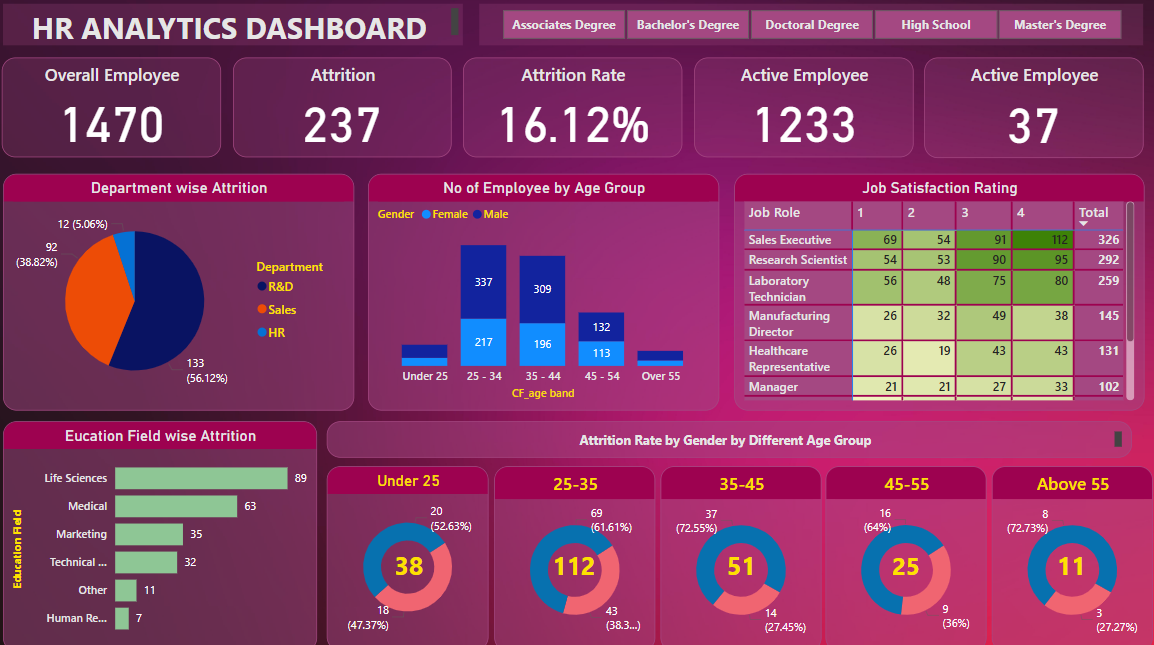

What the dashboard file says about the page in this screenshot:
{"tool":"powerbi","page":{"name":"Page 1","canvas":[1280,720],"ordinal":0},"visuals":[{"type":"card","title":"Overall  Employee","fields":{"Values":["Sum(HR data.Employee Count)"]},"box":[10.1,69,240.5,109.2],"z":0},{"type":"card","title":"Attrition","fields":{"Values":["Sum(HR data.AttritionCount)"]},"box":[263.5,68.6,240.1,109.8],"z":1000},{"type":"card","title":"Attrition Rate","fields":{"Values":["HR data.Attrition Rate"]},"box":[516.2,69,240.5,109.2],"z":2000},{"type":"card","title":"Active Employee","fields":{"Values":["HR data.Active Employee"]},"box":[769.3,69,240.5,109.2],"z":3000},{"type":"card","title":"Active Employee","fields":{"Values":["Avg(HR data.Age)"]},"box":[1022.3,68.4,240.5,110.4],"z":4000},{"type":"pieChart","title":"Department wise Attrition","fields":{"Category":["HR data.Department"],"Y":["Sum(HR data.AttritionCount)"]},"box":[11,196.3,385.3,260.1],"z":5000},{"type":"columnChart","title":"No of Employee by Age Group","fields":{"Category":["HR data.CF_age band"],"Y":["Sum(HR data.Employee Count)"],"Series":["HR data.Gender"]},"box":[412.3,196.3,385.3,260.1],"z":6000},{"type":"pivotTable","title":"Job Satisfaction Rating","fields":{"Rows":["HR data.Job Role"],"Columns":["HR data.Job Satisfaction"],"Values":["Sum(HR data.Employee Count)"]},"box":[813.5,196.3,450.3,260.1],"z":7000},{"type":"barChart","title":"Eucation Field wise Attrition","fields":{"Category":["HR data.Education Field"],"Y":["Sum(HR data.AttritionCount)"]},"box":[11,467.9,344.4,252.5],"z":8000},{"type":"donutChart","title":"Under 25","fields":{"Category":["HR data.Gender"],"Y":["Sum(HR data.AttritionCount)"],"Series":["HR data.CF_age band"]},"box":[366.9,517.5,177.9,202.5],"z":9000},{"type":"textbox","box":[366.4,467.9,883.7,39.8],"z":10000},{"type":"donutChart","title":" 25-35","fields":{"Category":["HR data.Gender"],"Y":["Sum(HR data.AttritionCount)"],"Series":["HR data.CF_age band"]},"box":[549.9,517.3,177,203.1],"z":11000},{"type":"donutChart","title":" 35-45","fields":{"Category":["HR data.Gender"],"Y":["Sum(HR data.AttritionCount)"],"Series":["HR data.CF_age band"]},"box":[732.1,517.3,177,203.1],"z":12000},{"type":"donutChart","title":" 45-55","fields":{"Category":["HR data.Gender"],"Y":["Sum(HR data.AttritionCount)"],"Series":["HR data.CF_age band"]},"box":[914.2,517.3,177,203.1],"z":13000},{"type":"donutChart","title":"Above 55","fields":{"Category":["HR data.Gender"],"Y":["Sum(HR data.AttritionCount)"],"Series":["HR data.CF_age band"]},"box":[1096.4,517.3,177,203.1],"z":14000},{"type":"card","fields":{"Values":["Sum(HR data.AttritionCount)"]},"box":[426.8,605.1,59,43.9],"z":15000},{"type":"card","fields":{"Values":["Sum(HR data.AttritionCount)"]},"box":[607.5,605.1,59,43.9],"z":16000},{"type":"card","fields":{"Values":["Sum(HR data.AttritionCount)"]},"box":[791.8,605.1,59,43.9],"z":17000},{"type":"card","fields":{"Values":["Sum(HR data.AttritionCount)"]},"box":[967.4,605.1,70,43.9],"z":18000},{"type":"card","fields":{"Values":["Sum(HR data.AttritionCount)"]},"box":[1154,605.1,59,43.9],"z":19000},{"type":"slicer","fields":{"Values":["HR data.Education"]},"box":[533.8,9.6,728.6,45.3],"z":20000},{"type":"textbox","box":[11,9.6,505,45.3],"z":21000}]}

Visuals, with their boxes in screenshot pixels (x1, y1, x2, y2), scaled from the page's 1280x720 canvas onto the 1154x645 screenshot:
"Overall  Employee" card: locate(9, 62, 226, 160)
"Attrition" card: locate(238, 61, 454, 160)
"Attrition Rate" card: locate(465, 62, 682, 160)
"Active Employee" card: locate(694, 62, 910, 160)
"Active Employee" card: locate(922, 61, 1138, 160)
"Department wise Attrition" pieChart: locate(10, 176, 357, 409)
"No of Employee by Age Group" columnChart: locate(372, 176, 719, 409)
"Job Satisfaction Rating" pivotTable: locate(733, 176, 1139, 409)
"Eucation Field wise Attrition" barChart: locate(10, 419, 320, 644)
"Under 25" donutChart: locate(331, 464, 491, 644)
textbox: locate(330, 419, 1127, 455)
" 25-35" donutChart: locate(496, 463, 655, 644)
" 35-45" donutChart: locate(660, 463, 820, 644)
" 45-55" donutChart: locate(824, 463, 984, 644)
"Above 55" donutChart: locate(988, 463, 1148, 644)
card - Sum(HR data.AttritionCount): locate(385, 542, 438, 581)
card - Sum(HR data.AttritionCount): locate(548, 542, 601, 581)
card - Sum(HR data.AttritionCount): locate(714, 542, 767, 581)
card - Sum(HR data.AttritionCount): locate(872, 542, 935, 581)
card - Sum(HR data.AttritionCount): locate(1040, 542, 1094, 581)
slicer - HR data.Education: locate(481, 9, 1138, 49)
textbox: locate(10, 9, 465, 49)
